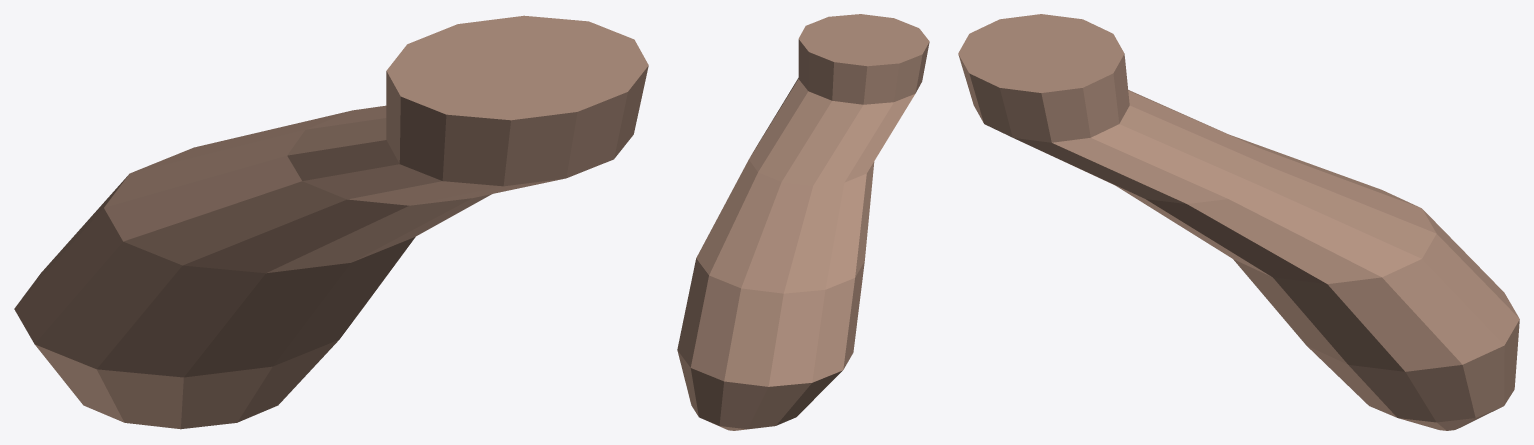
File: ScrotumLeft.fbx
3 renders of one model, left to right at view 1: azimuth 30°, elevation 25°; view 2: azimuth 150°, elevation 25°; view 3: azimuth 270°, elevation 25°, orthographic. The views are drawn at different scales.
Parts seen in each view (by area): view 1: ScrotumLeft_Skin; view 2: ScrotumLeft_Skin; view 3: ScrotumLeft_Skin.
Part boxes in pixels (bbox=[...]): ScrotumLeft_Skin: bbox=[14, 15, 648, 429]; ScrotumLeft_Skin: bbox=[677, 14, 929, 430]; ScrotumLeft_Skin: bbox=[958, 14, 1519, 430].
Bounding box in the file's own units: 0.052 × 0.081 × 0.108.
